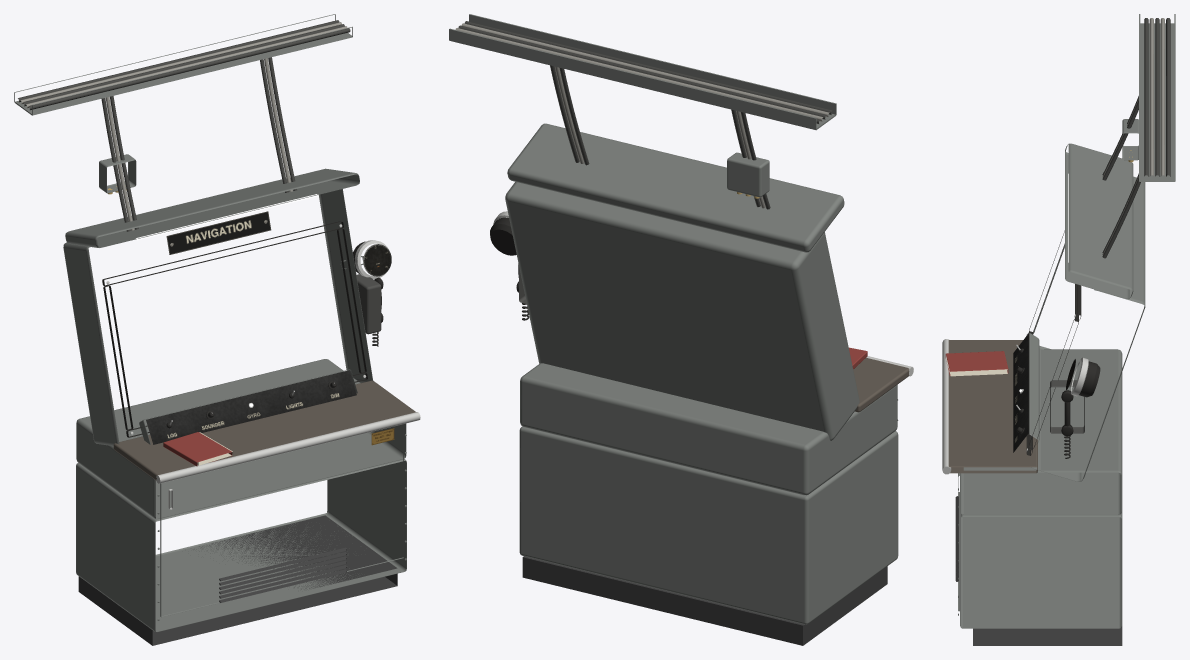
File: navigation.glb
The picture shows the model from 3 angles, left to right: view 1: azimuth 30°, elevation 25°; view 2: azimuth 150°, elevation 25°; view 3: azimuth 270°, elevation 25°; orthographic projection. The views are drawn at different scales.
Visible parts, largest first — view 1: body; view 2: body; view 3: body.
Boxes of the visible parts, x1,y1,x2,y2 form: body: [14, 14, 420, 645]; body: [449, 14, 913, 645]; body: [942, 14, 1175, 645].
Bounding box in the file's own units: 1.74 × 2.48 × 1.06.
11 materials, 4 textured.
